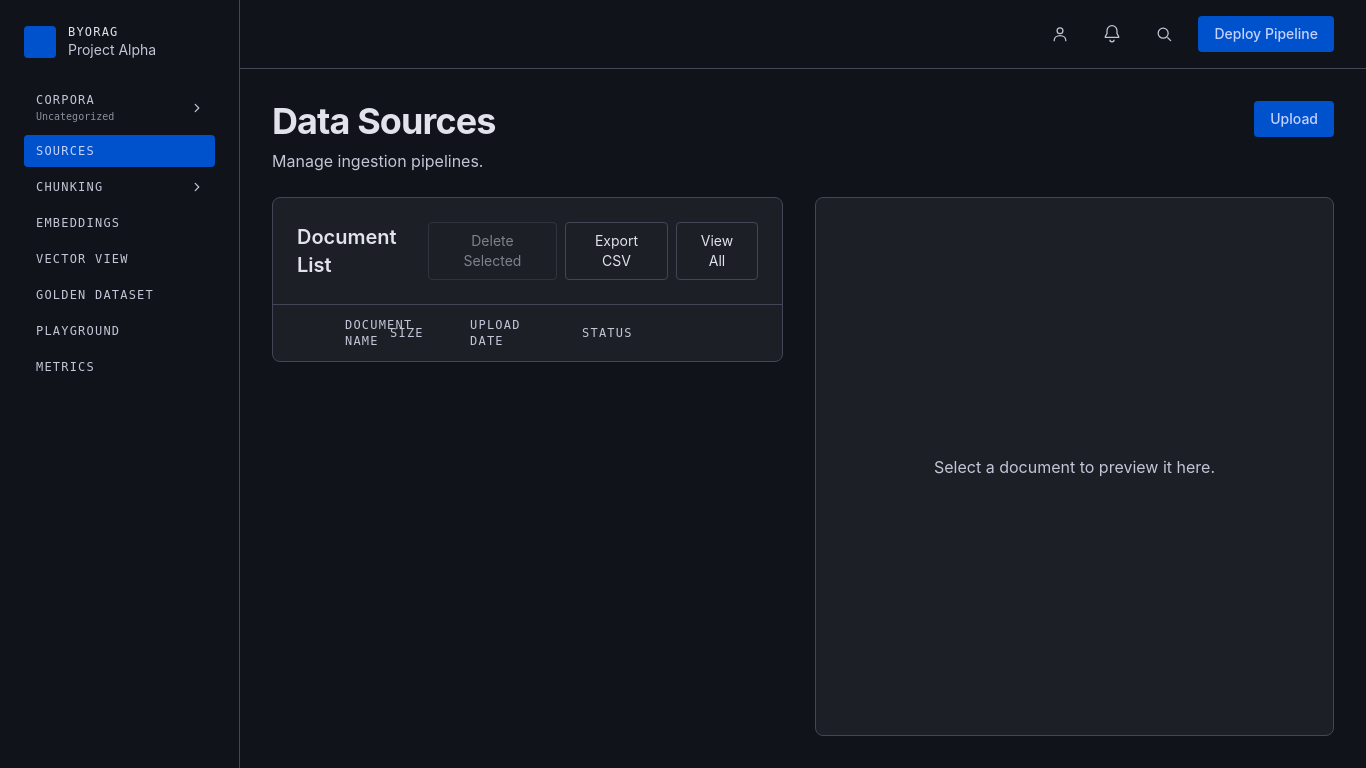
App navigation › renders the Embeddings screen after navigating there from the sidebar
What coordinates should you click on to do the following:
click the link "CHUNKING"
I would click on:
 (70, 187)
Its box is x1=36 y1=180 x2=203 y2=194.
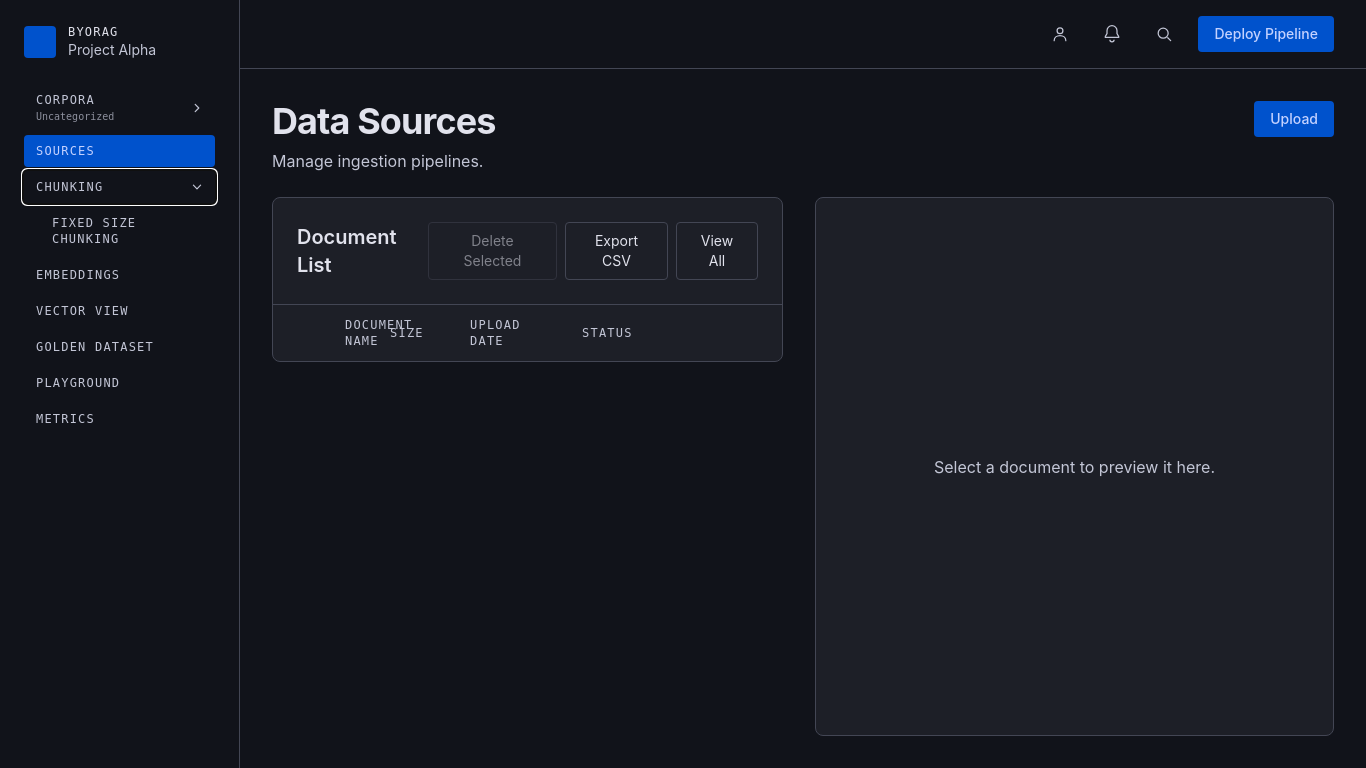
What coordinates should you click on to do the following:
click the link "EMBEDDINGS"
I would click on:
 (78, 275)
Its box is x1=36 y1=268 x2=120 y2=282.
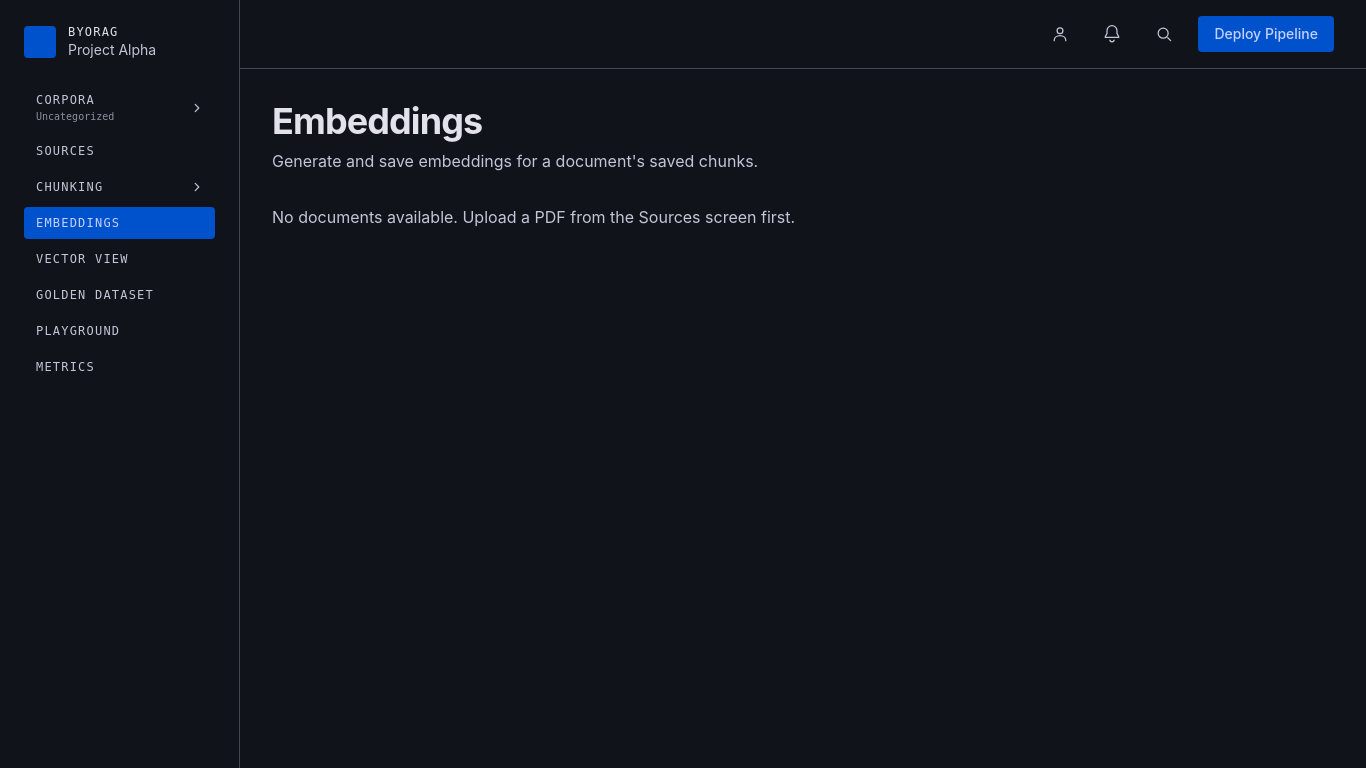
Check: the heading "Embeddings" is shown, box x1=272 y1=99 x2=482 y2=143
Check: the heading "Data Sources" is gone
